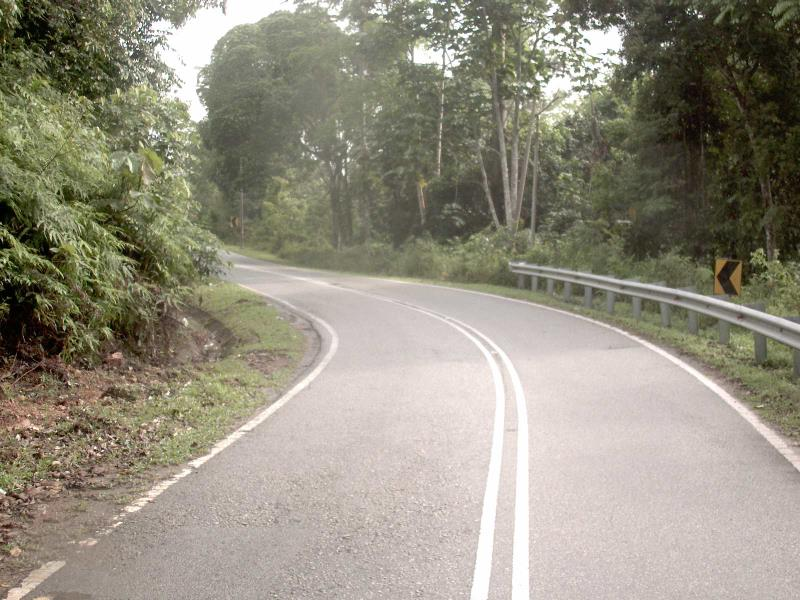traffic_sign: (706, 249, 751, 307)
